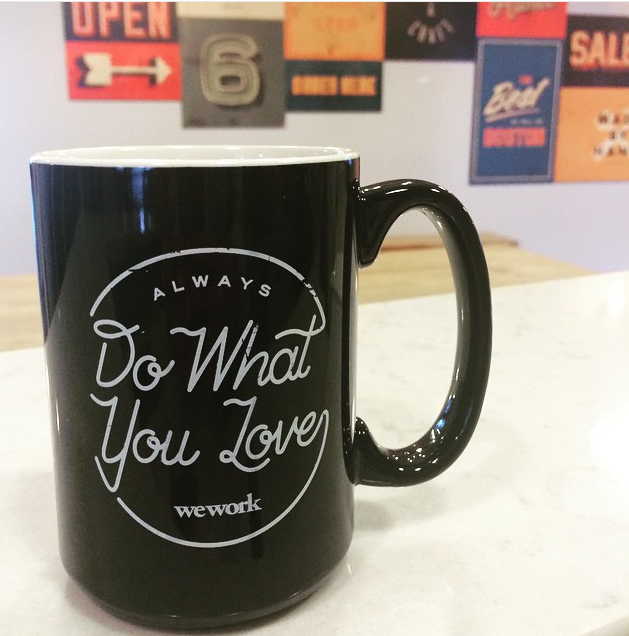wework: (168, 489, 266, 520)
